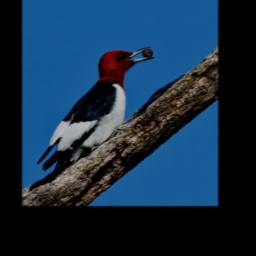Woodpecker: (35, 44, 157, 175)
